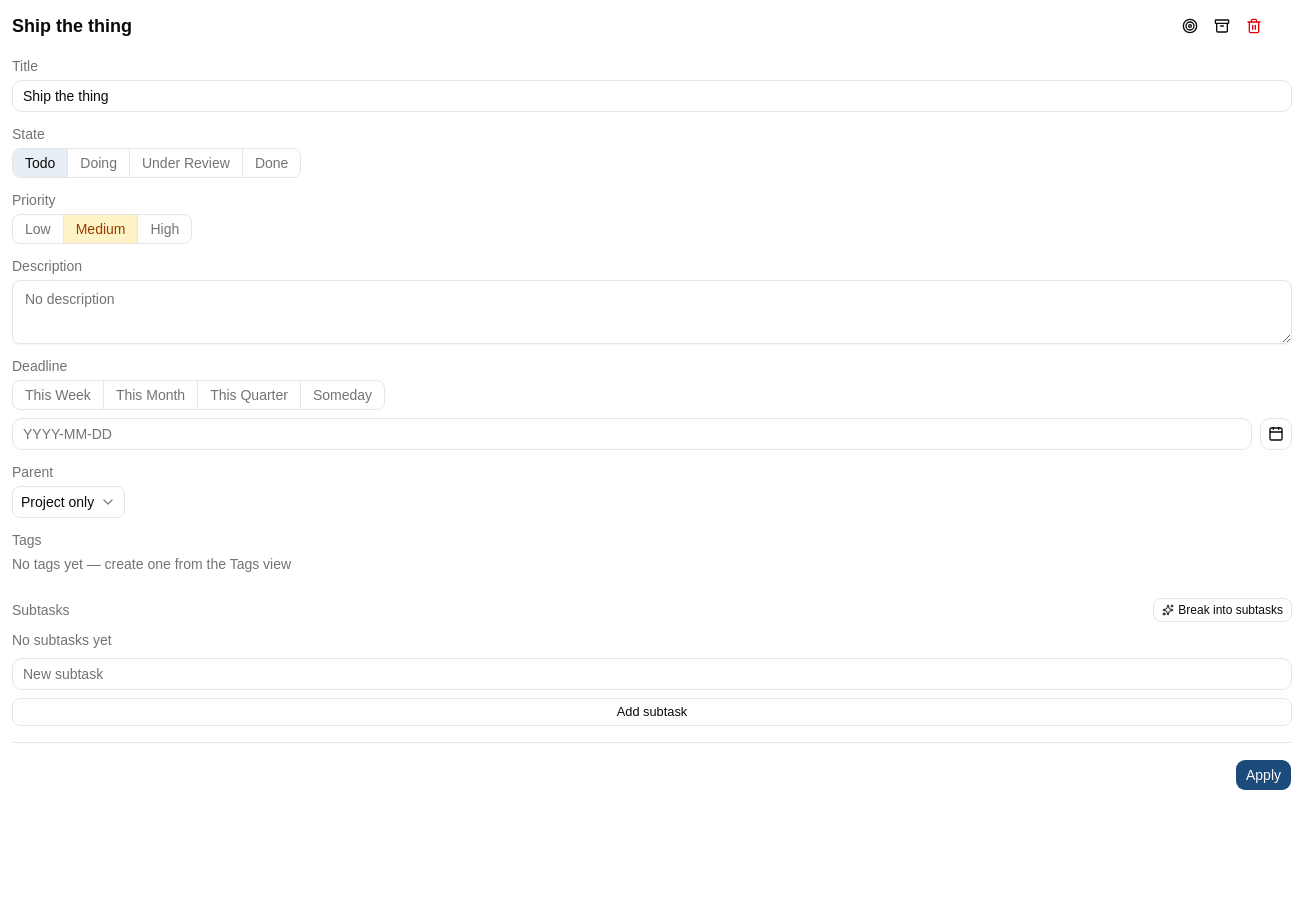
Test: TaskDetailPanel — state › shows an error when the state change fails
Click the button "Doing". click: {"x": 98, "y": 163}
box: [67, 149, 129, 177]
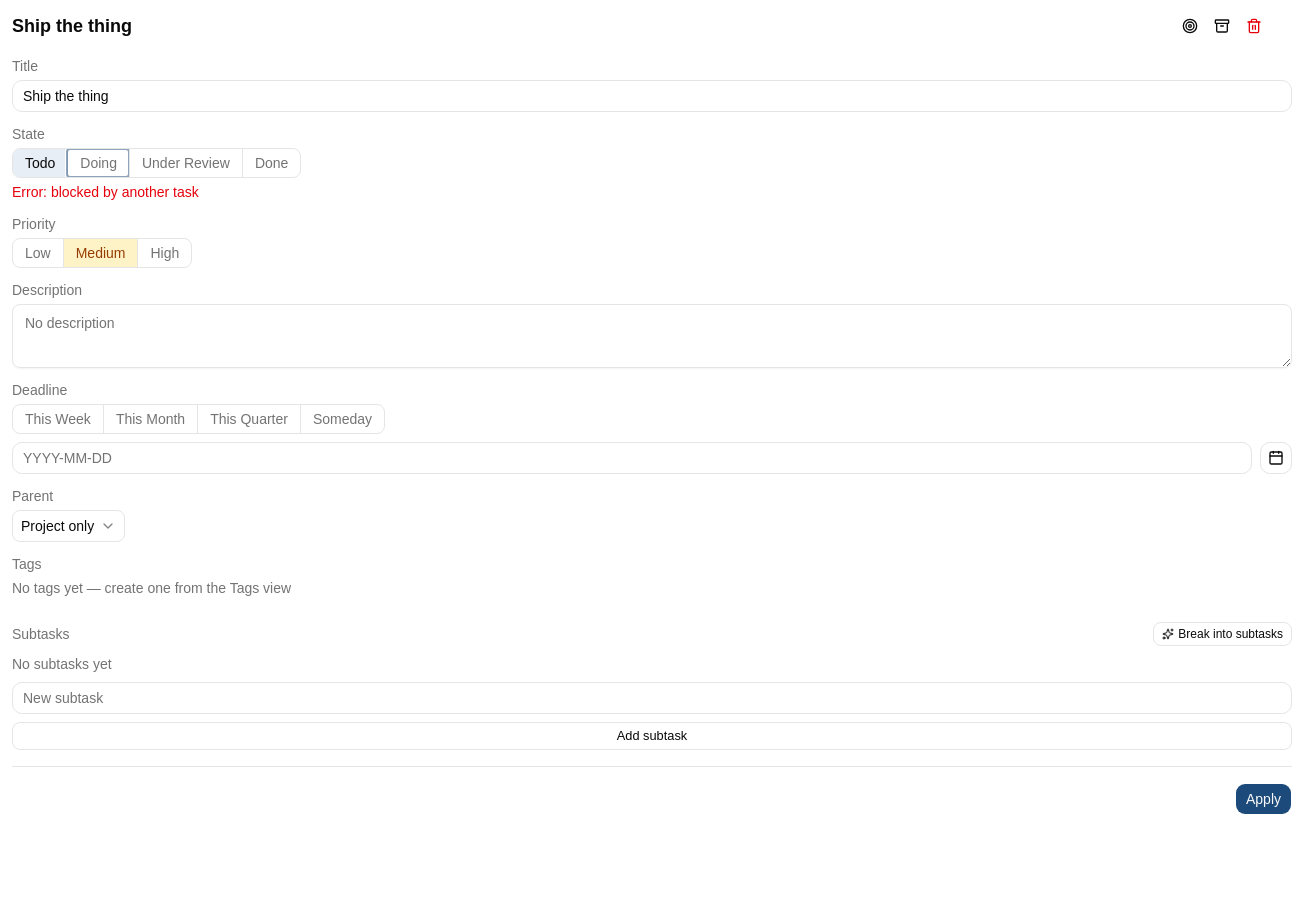
Expected: the text "Error: blocked by another task" is shown, [12, 184, 199, 200]
